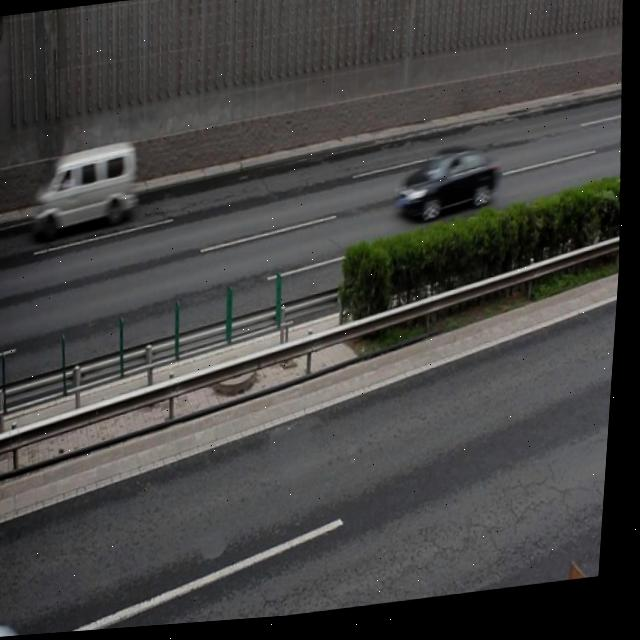car: (396, 149, 503, 235)
truck: (32, 142, 145, 237)
